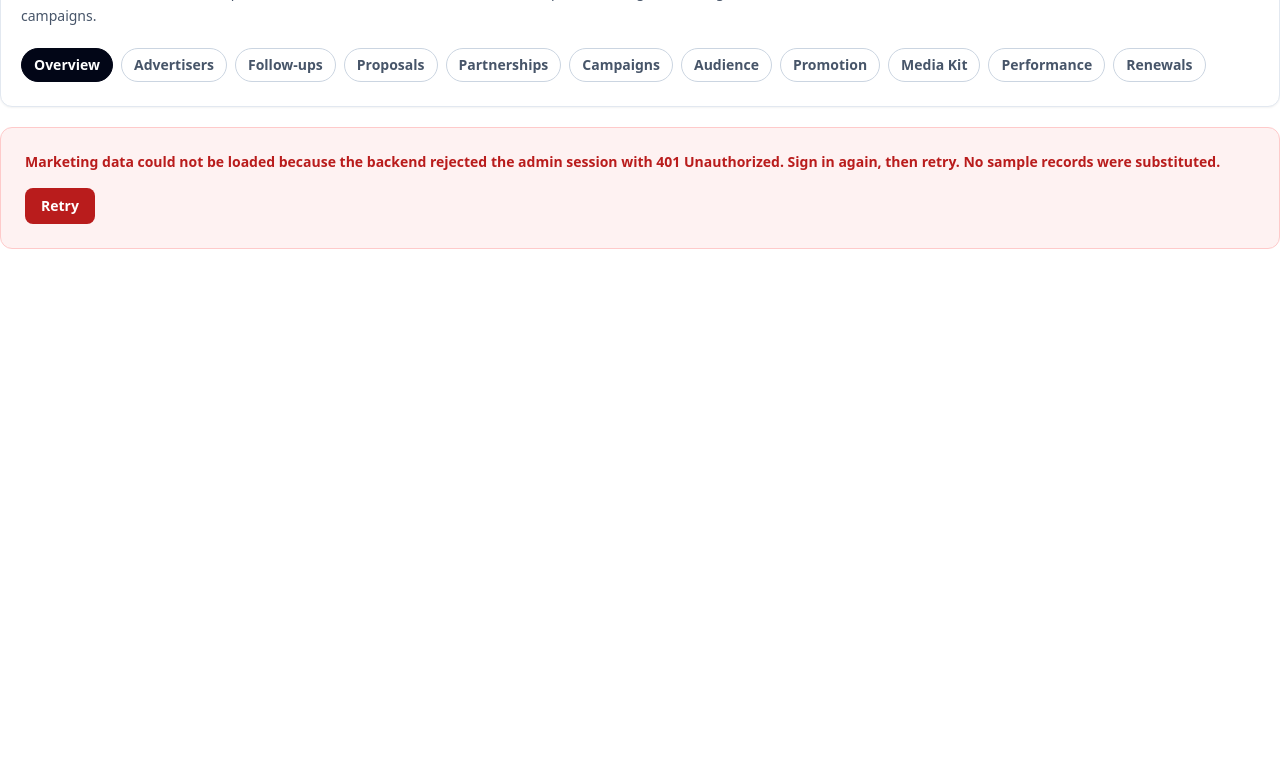
Scenario: Marketing page › classifies admin auth failures and retries the Marketing backend load
The width and height of the screenshot is (1280, 777).
Expected: the text "backend rejected the admin session with 401 Unauthorized" is shown, [25,152,1220,171]
Click the button "Retry" at (60, 206), box [25,188,95,224]
(page scrolled)
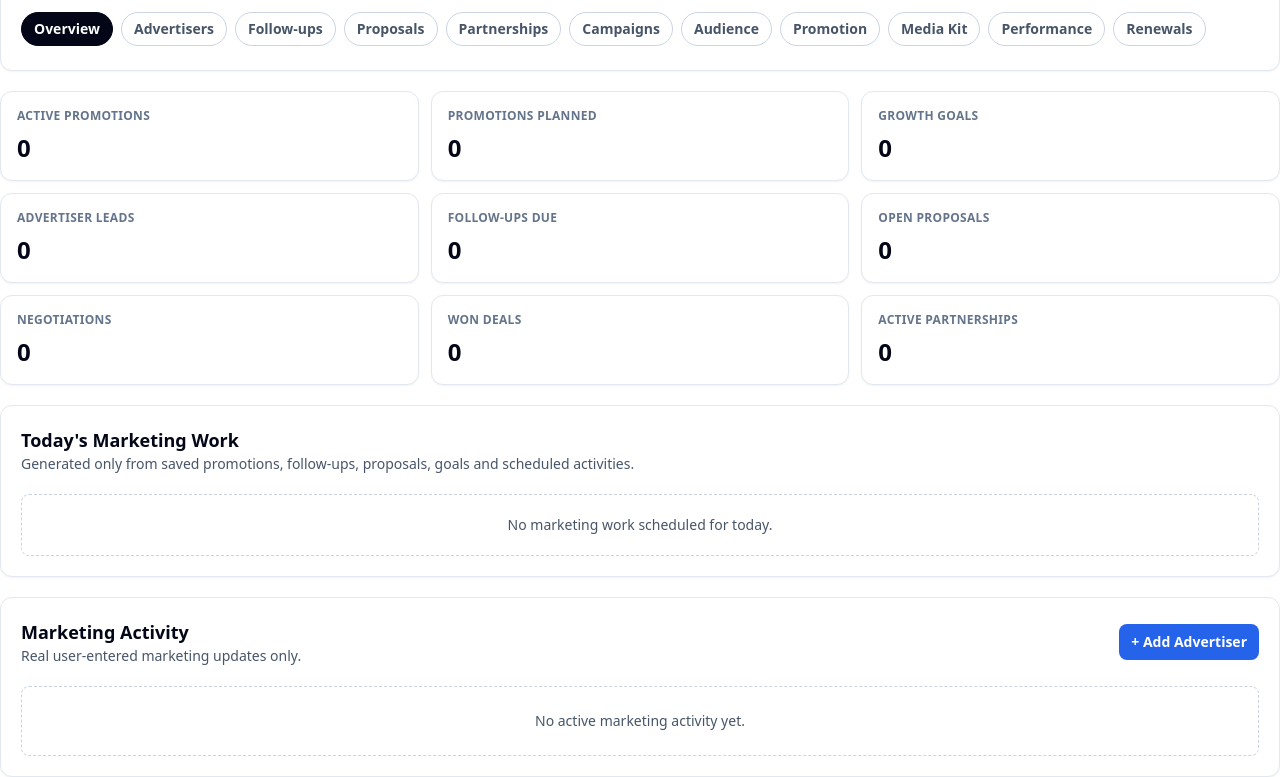
Result: the text "No active marketing activity yet." is shown at [21,686,1259,756]
